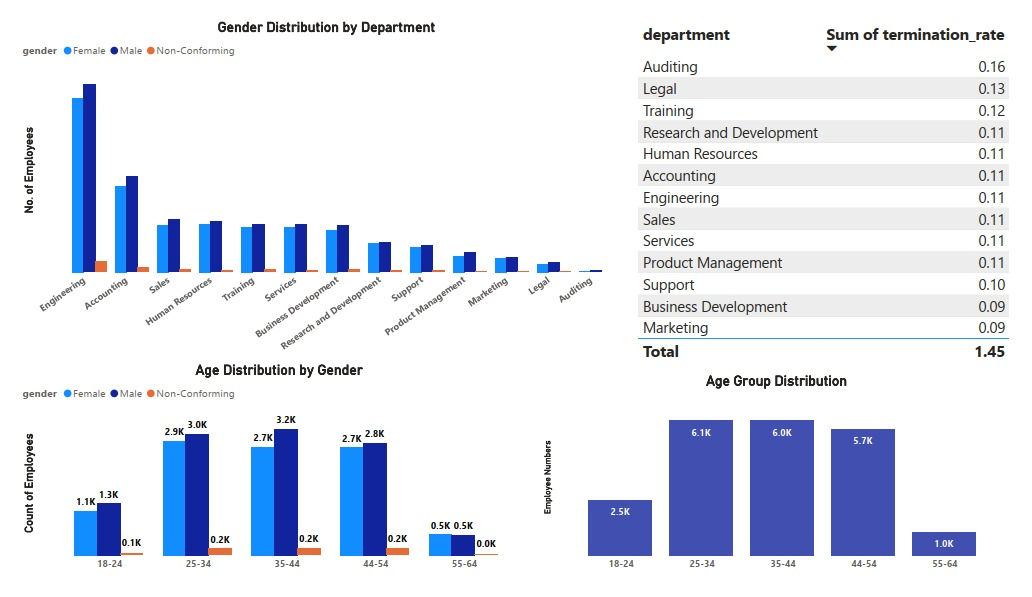

The page's visual inventory and layout, read from the dashboard file:
{"tool":"powerbi","page":{"name":"Page 2","canvas":[1280,720],"ordinal":1},"visuals":[{"type":"columnChart","title":"Age Group Distribution","fields":{"Y":["Sum(age_group.count)"],"Category":["age_group.age_group"]},"box":[669.6,455,610.6,265],"z":0},{"type":"clusteredColumnChart","title":"Age Distribution by Gender","fields":{"Y":["Sum(age_group_gender.count)"],"Category":["age_group_gender.age_group"],"Series":["age_group_gender.gender"]},"box":[0,440.6,669.6,279.4],"z":1000},{"type":"tableEx","fields":{"Values":["turnover_rate.department","Sum(turnover_rate.termination_rate)"]},"box":[792,0,488.2,455],"z":2000},{"type":"clusteredColumnChart","title":"Gender Distribution by Department","fields":{"Y":["Sum(gender_dept.count)"],"Category":["gender_dept.department"],"Series":["gender_dept.gender"]},"box":[0,0,792,440.6],"z":3000}]}

Visuals, with their boxes in screenshot pixels (x1, y1, x2, y2), scaled from the page's 1280x720 canvas onto the 1032x597 screenshot:
"Age Group Distribution" columnChart: [x1=540, y1=377, x2=1031, y2=596]
"Age Distribution by Gender" clusteredColumnChart: [x1=0, y1=365, x2=540, y2=596]
tableEx - turnover_rate.department x Sum(turnover_rate.termination_rate): [x1=639, y1=0, x2=1031, y2=377]
"Gender Distribution by Department" clusteredColumnChart: [x1=0, y1=0, x2=639, y2=365]
